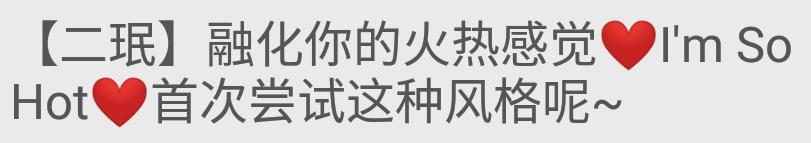TextView: (1, 1, 810, 142)
